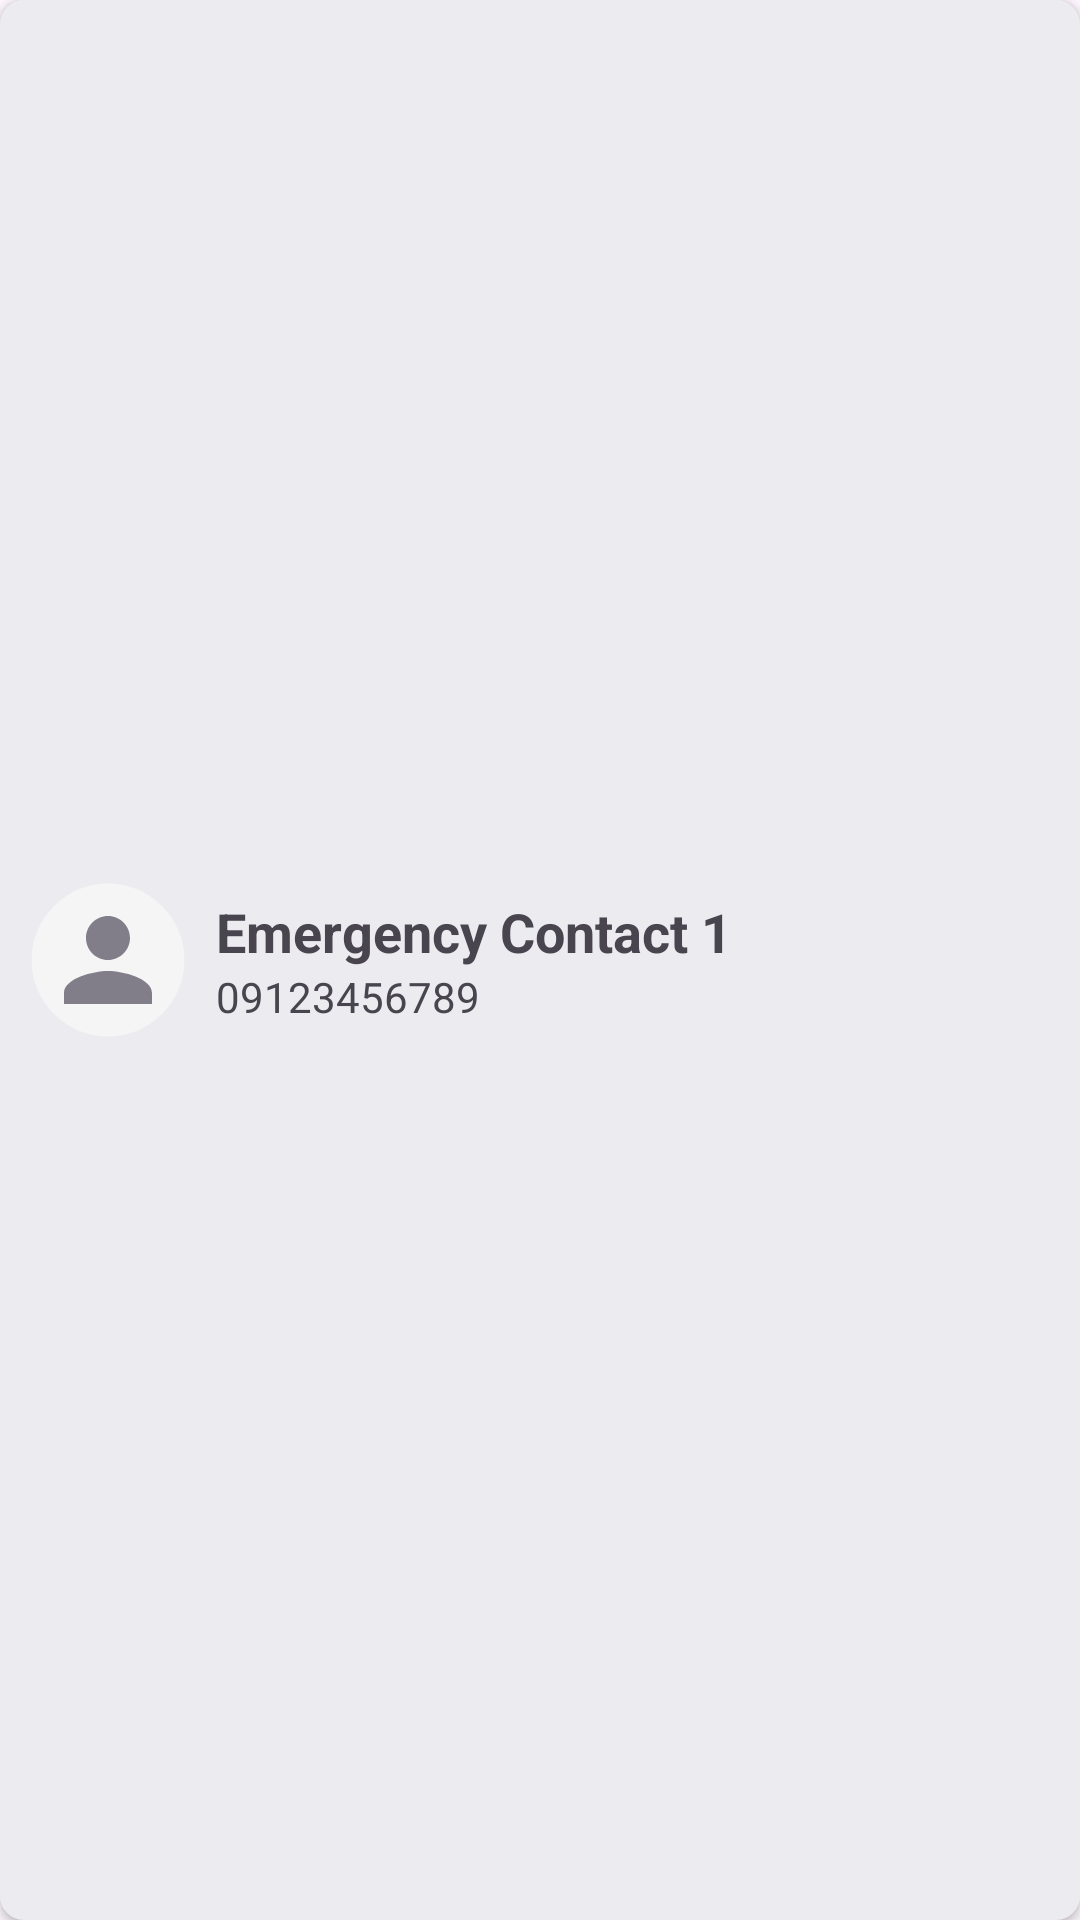

Locate icon controls on the screen. Image size 1080px x 1920px, boxes as (x1, y1, x2, y2).
person: (64, 916, 152, 1004)
